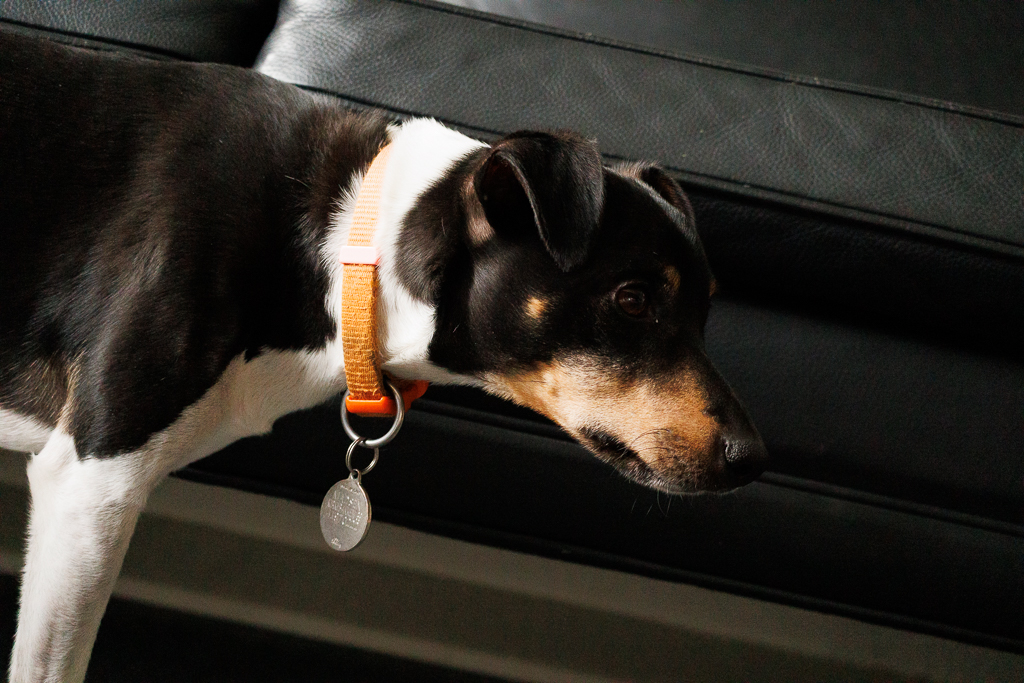Dog: (0, 23, 782, 683)
